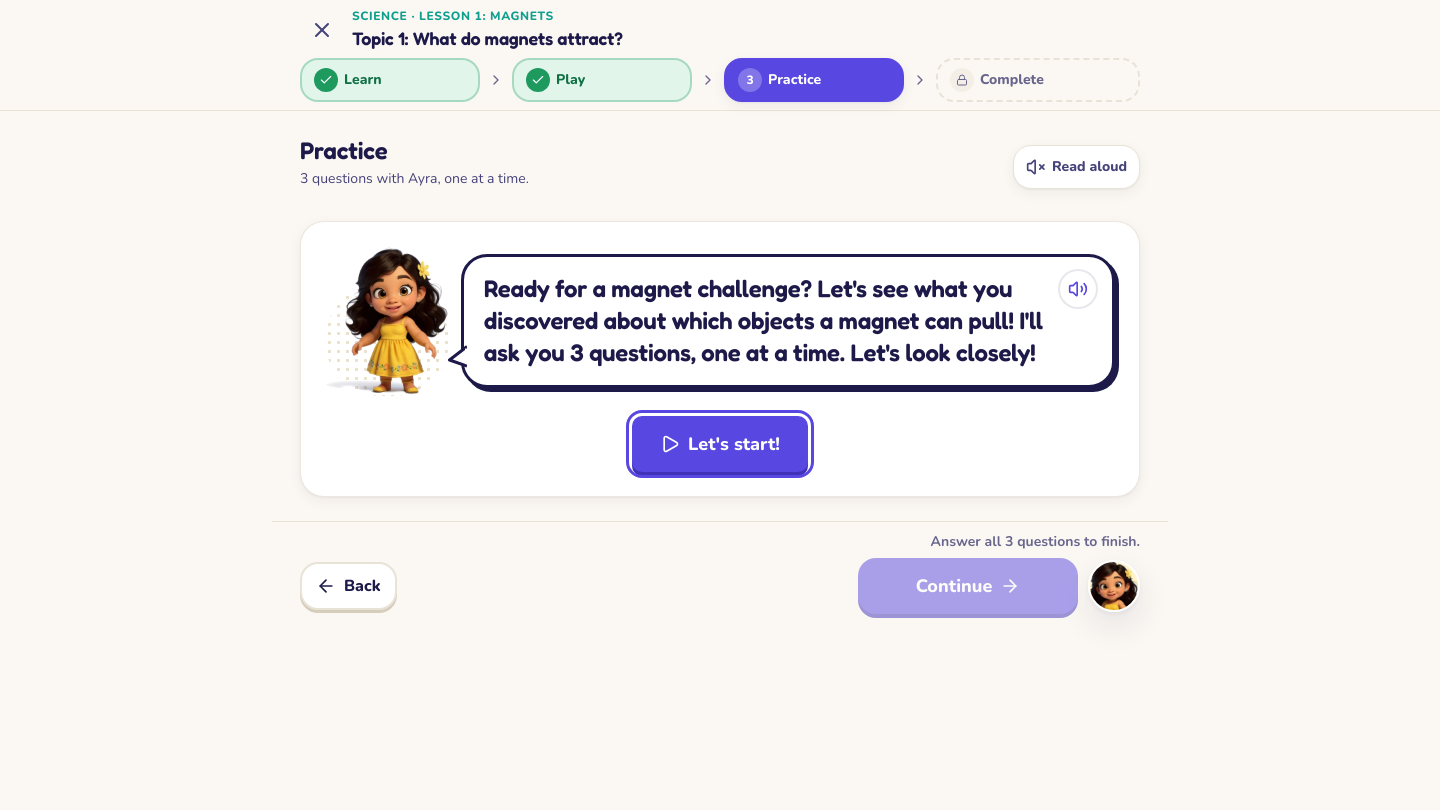
Test: voice answers › are not offered where the browser cannot listen
This screenshot has width=1440, height=810.
Click the button "Let's start!" at [720, 444], box top-left (632, 416), bottom-right (808, 472)
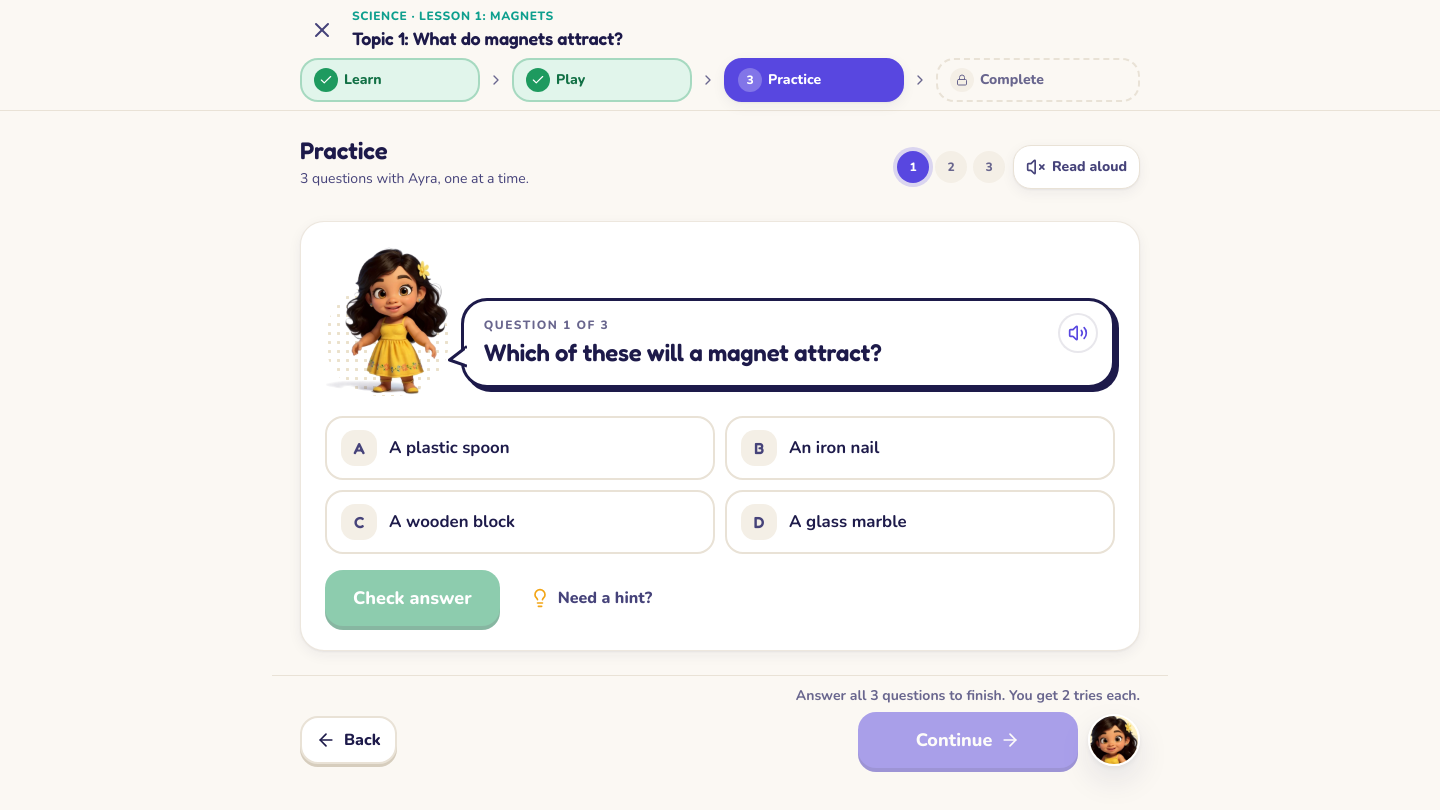
Now the number of radio buttons is 4, box top-left (325, 416), bottom-right (715, 480); top-left (725, 416), bottom-right (1115, 480); top-left (325, 490), bottom-right (715, 554); top-left (725, 490), bottom-right (1115, 554)
